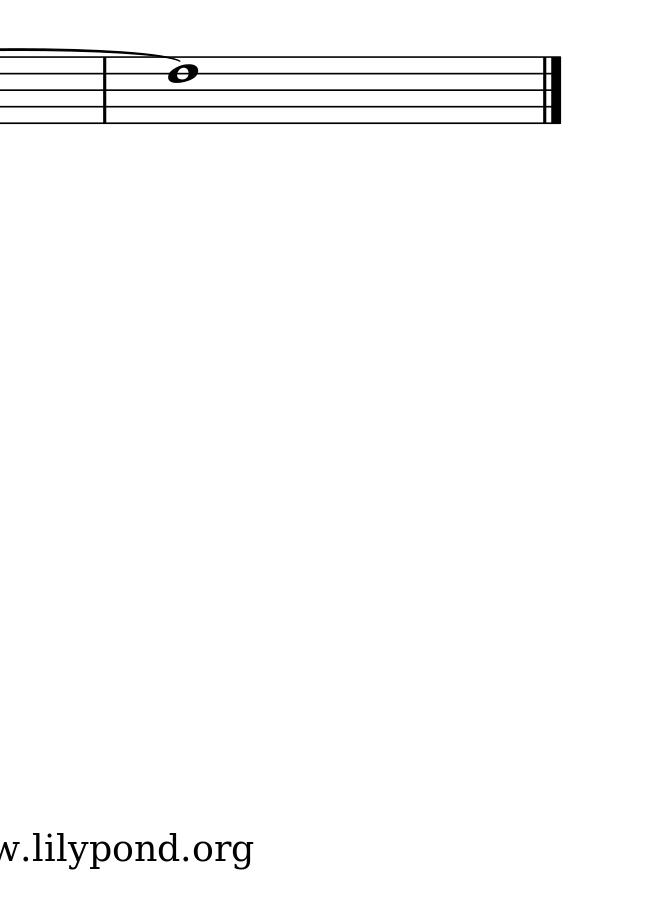1_6: (166, 55, 200, 126)
Final_barline: (538, 55, 564, 122)
Single_barline: (98, 58, 112, 123)
